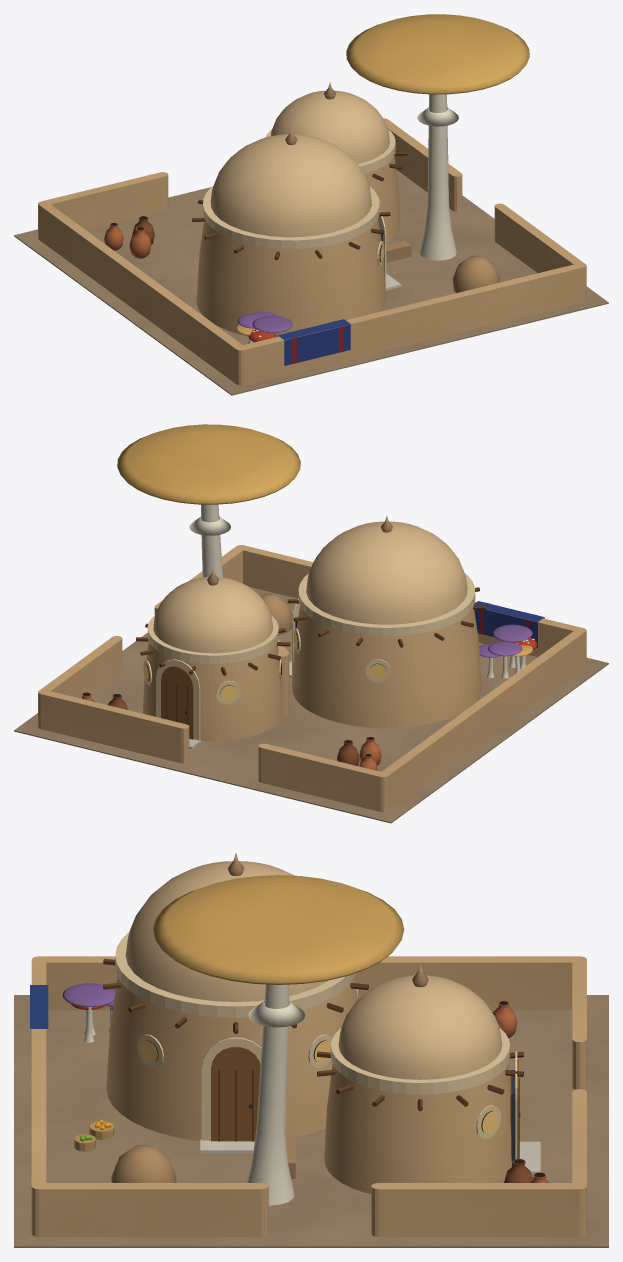
File: hl_chyse.glb
3 renders of one model, top to bottom at view 1: azimuth 30°, elevation 25°; view 2: azimuth 150°, elevation 25°; view 3: azimuth 270°, elevation 25°, orthographic. The views are drawn at different scales.
Parts seen in each view (by area): view 1: dum; view 2: dum, noc; view 3: dum, noc.
Part boxes in pixels (bbox=[...]): dum: bbox=[14, 14, 608, 395]; dum: bbox=[14, 424, 608, 823]; noc: bbox=[143, 633, 386, 700]; dum: bbox=[14, 852, 608, 1247]; noc: bbox=[140, 1041, 498, 1133].
Bounding box in the file's own units: 14.37 × 7.46 × 14.16.
Materials: 1 (1 with a texture image).
